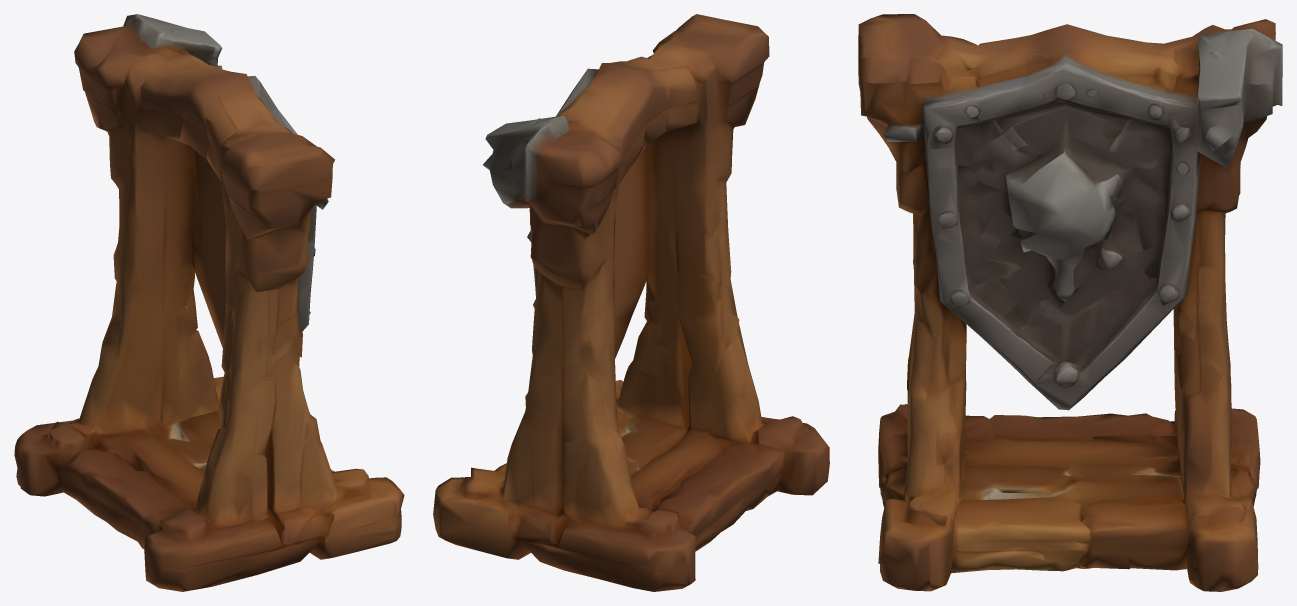
Rendered from armor_stand.glb.
The picture shows the model from 3 angles, left to right: view 1: azimuth 30°, elevation 25°; view 2: azimuth 150°, elevation 25°; view 3: azimuth 270°, elevation 25°; orthographic projection. The views are drawn at different scales.
Parts seen in each view (by area): view 1: tripo_node_482925da-06db-491f-8181-e80310c083e8; view 2: tripo_node_482925da-06db-491f-8181-e80310c083e8; view 3: tripo_node_482925da-06db-491f-8181-e80310c083e8.
Boxes of the visible parts, x1=… form: tripo_node_482925da-06db-491f-8181-e80310c083e8: x1=14, y1=14, x2=404, y2=591; tripo_node_482925da-06db-491f-8181-e80310c083e8: x1=433, y1=14, x2=829, y2=591; tripo_node_482925da-06db-491f-8181-e80310c083e8: x1=858, y1=14, x2=1282, y2=591.
Size of the model in its own units: 0.6012 by 1 by 0.7688.
1 material, 1 textured.
